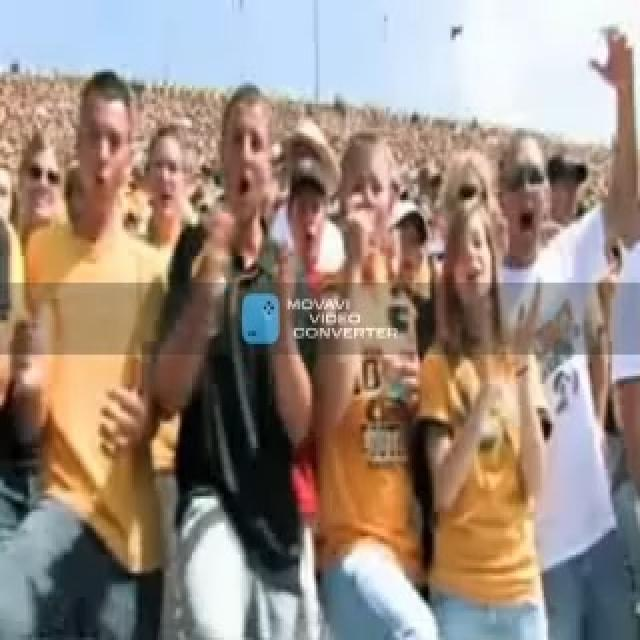non-voilence: (0, 24, 638, 637), (2, 67, 172, 637), (146, 83, 318, 637)
